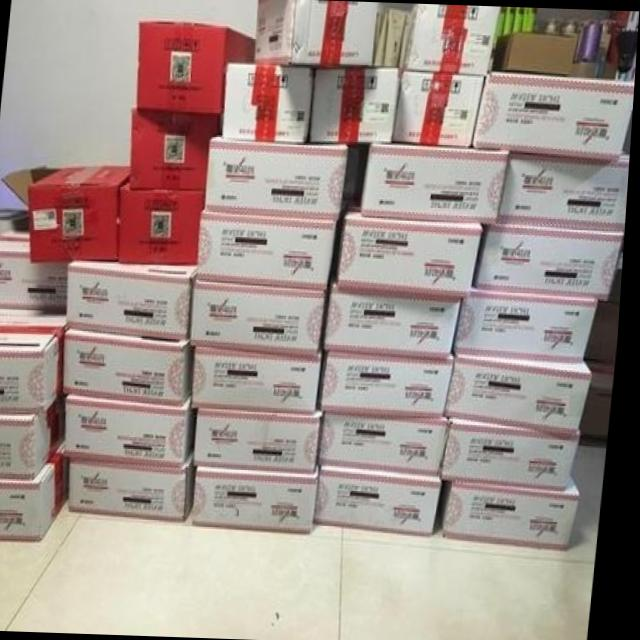box: (475, 72, 635, 161), (338, 207, 485, 298), (450, 356, 597, 437), (207, 138, 350, 218), (477, 223, 627, 299), (362, 145, 510, 222), (199, 210, 339, 289), (501, 150, 632, 231), (139, 23, 256, 111), (457, 291, 602, 362), (446, 417, 584, 491), (68, 326, 194, 407), (448, 476, 586, 549), (71, 263, 199, 339), (327, 281, 464, 352), (30, 166, 131, 262), (194, 281, 330, 352), (68, 395, 201, 466), (195, 346, 326, 416), (324, 351, 459, 417), (200, 406, 326, 474), (199, 466, 326, 532), (323, 467, 448, 534), (254, 0, 378, 67), (74, 456, 200, 521), (325, 414, 456, 475), (0, 439, 76, 539), (223, 63, 315, 141), (132, 108, 221, 187), (0, 312, 69, 413), (403, 3, 500, 74), (394, 71, 487, 145), (311, 68, 401, 144), (121, 185, 207, 264), (0, 391, 70, 476), (0, 230, 71, 311), (492, 32, 578, 75)
